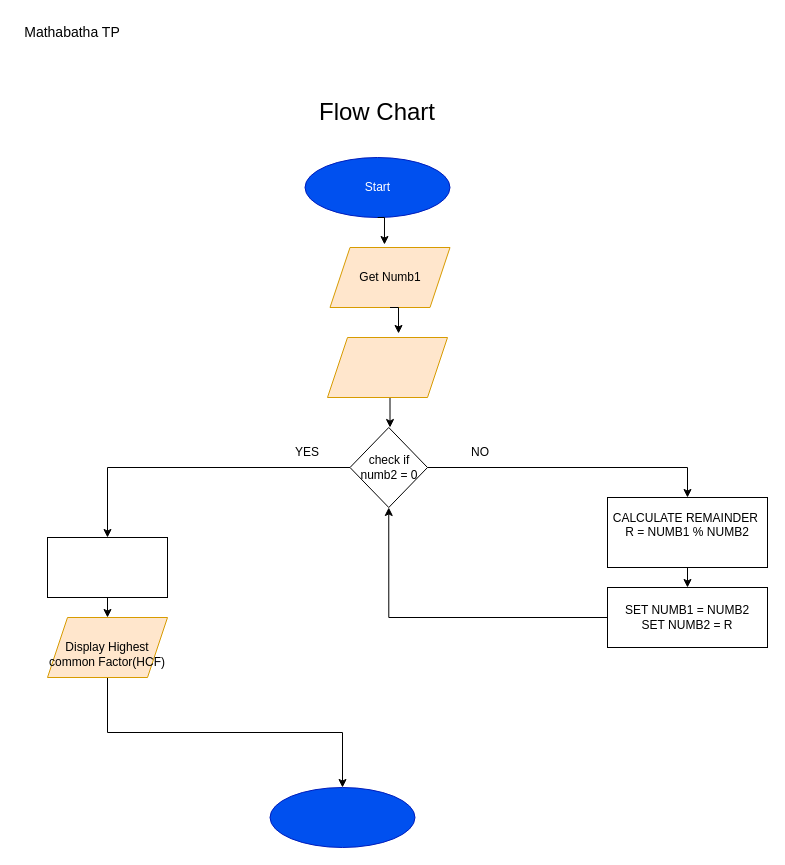
This 785x865 diagram has some shape labels left out. Here are the shapes that lost their labels. From the top down, the box of each, then its label:
(326, 336, 448, 398): Get Numb2
(46, 536, 168, 598): SET HCF = NUMB1
(269, 786, 415, 848): End
